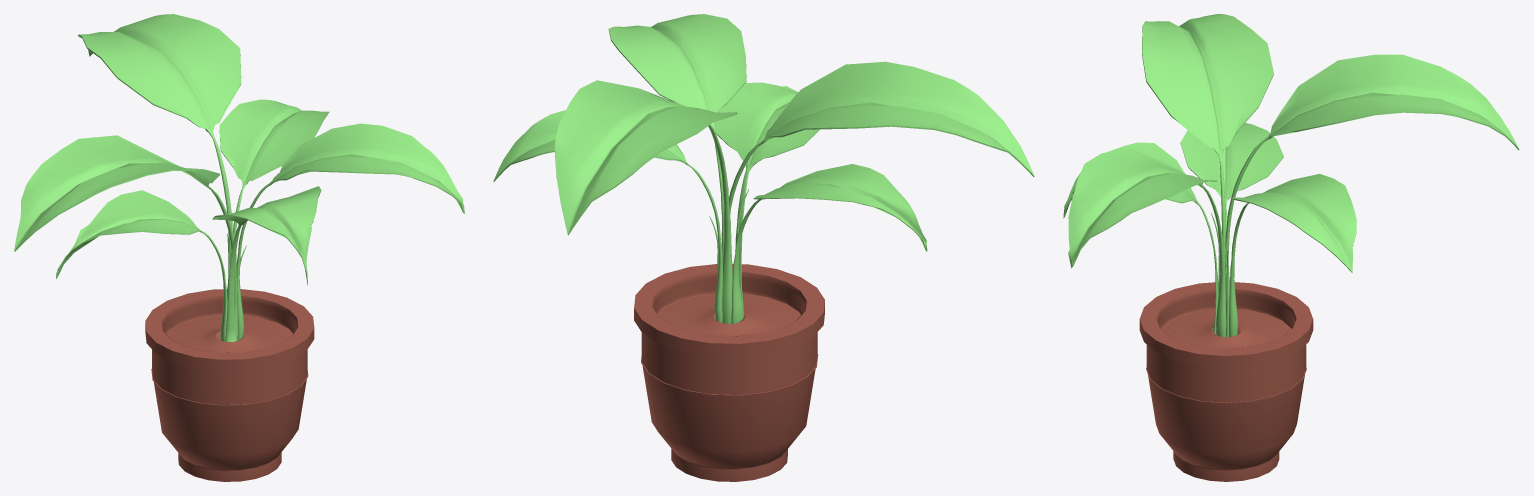
File: flowerpot.glb
The picture shows the model from 3 angles, left to right: view 1: azimuth 30°, elevation 25°; view 2: azimuth 150°, elevation 25°; view 3: azimuth 270°, elevation 25°; orthographic projection. The views are drawn at different scales.
Parts seen in each view (by area): view 1: pCylinder1; view 2: pCylinder1; view 3: pCylinder1.
Part boxes in pixels (<box>): pCylinder1: <box>14,14,464,481</box>; pCylinder1: <box>493,14,1034,481</box>; pCylinder1: <box>1063,14,1519,481</box>.
Size of the model in its own units: 2.61 by 2.25 by 2.48.
